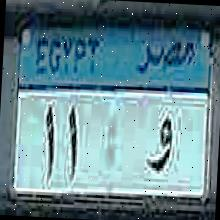1: (59, 100, 84, 182), (38, 100, 59, 184)
waw: (136, 106, 174, 177)
